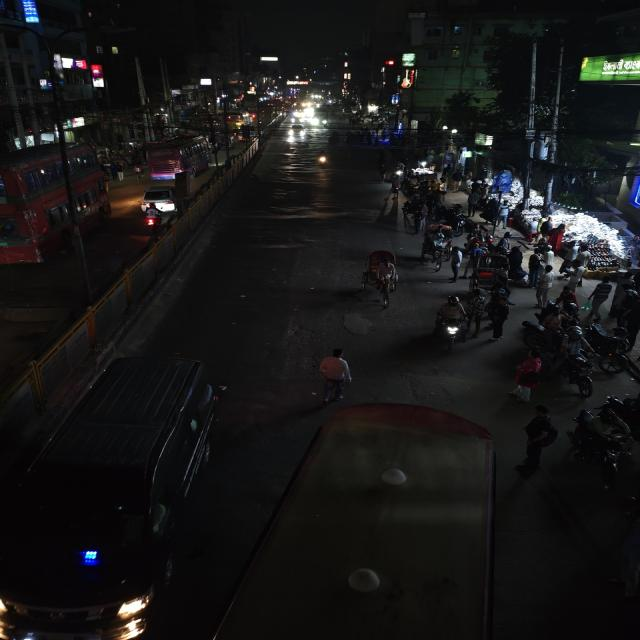bus: (250, 398, 509, 640), (0, 139, 109, 267), (144, 132, 217, 182)
car: (12, 355, 225, 640), (139, 187, 177, 216)
motorcycle: (569, 407, 630, 471), (598, 395, 640, 457), (432, 295, 469, 350), (558, 351, 594, 398), (140, 207, 163, 238), (315, 149, 331, 167)
pedestrian: (515, 404, 558, 472), (313, 346, 358, 404), (508, 351, 546, 404), (484, 293, 512, 341), (526, 250, 550, 306), (533, 267, 552, 305), (447, 244, 464, 279)
rickshaw: (357, 248, 402, 308)
